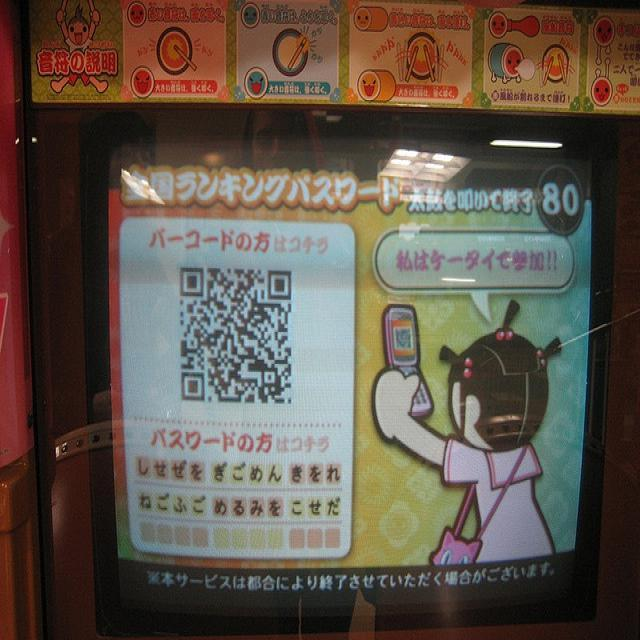qrcode: (181, 268, 291, 404)
